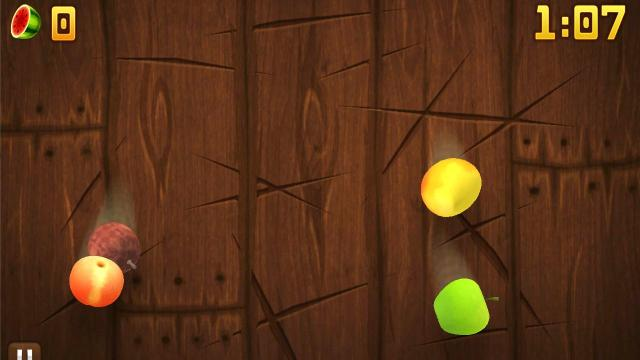fruit: (420, 157, 482, 217), (432, 278, 493, 334), (68, 255, 125, 308), (88, 222, 142, 274)
ignore: (9, 3, 43, 41)
